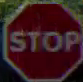Stop: (2, 2, 82, 81)
